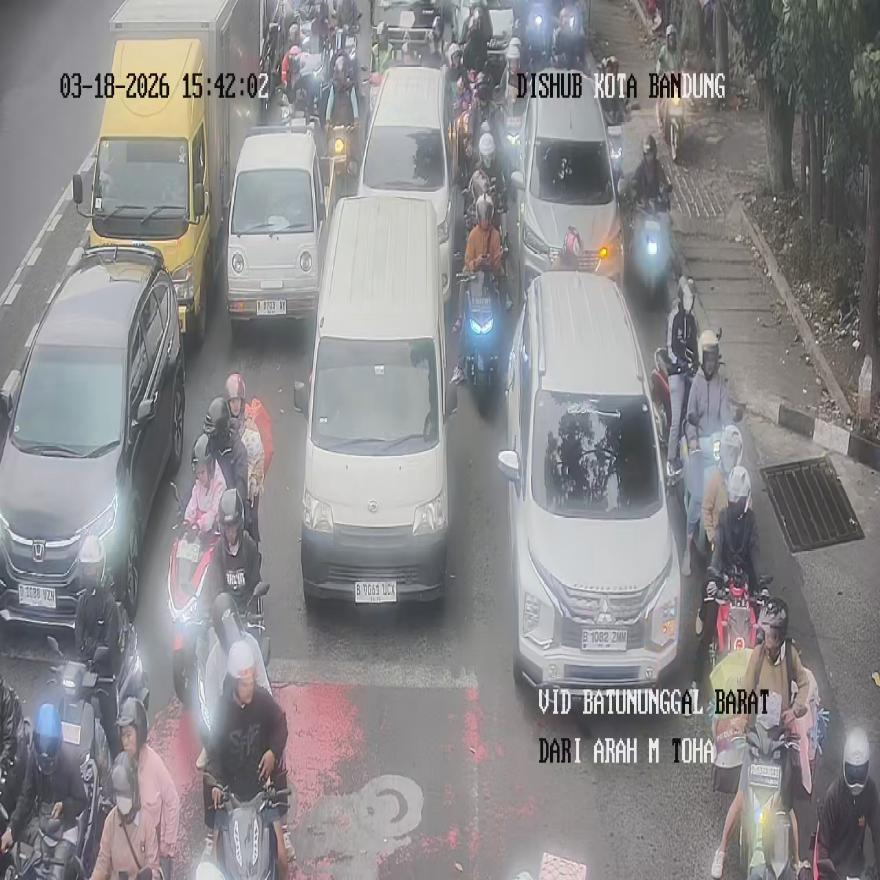Mobil: (498, 270, 680, 705), (0, 240, 186, 633), (294, 194, 457, 605), (71, 1, 236, 347), (509, 70, 624, 300), (356, 64, 455, 306), (224, 124, 327, 332)
Motor: (704, 571, 770, 792), (194, 583, 270, 770), (168, 482, 224, 705), (195, 770, 289, 879), (738, 718, 795, 878), (456, 259, 502, 408), (651, 347, 693, 488), (682, 435, 718, 573), (631, 187, 673, 304), (324, 78, 359, 185), (551, 1, 586, 69), (525, 2, 550, 68), (660, 96, 684, 164)
